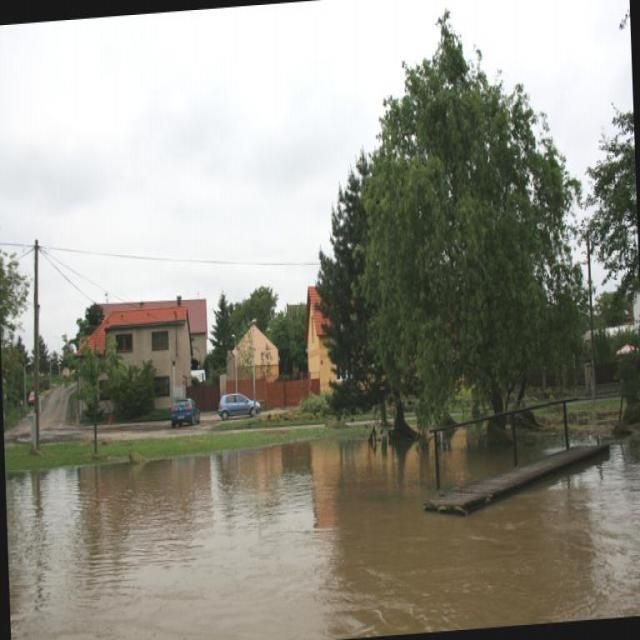flood: (4, 400, 639, 639)
